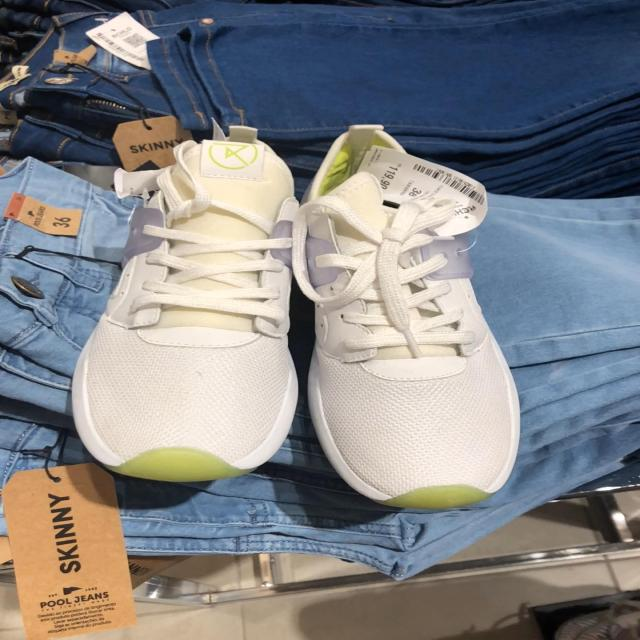shoe: (296, 126, 520, 512), (71, 127, 297, 484)
